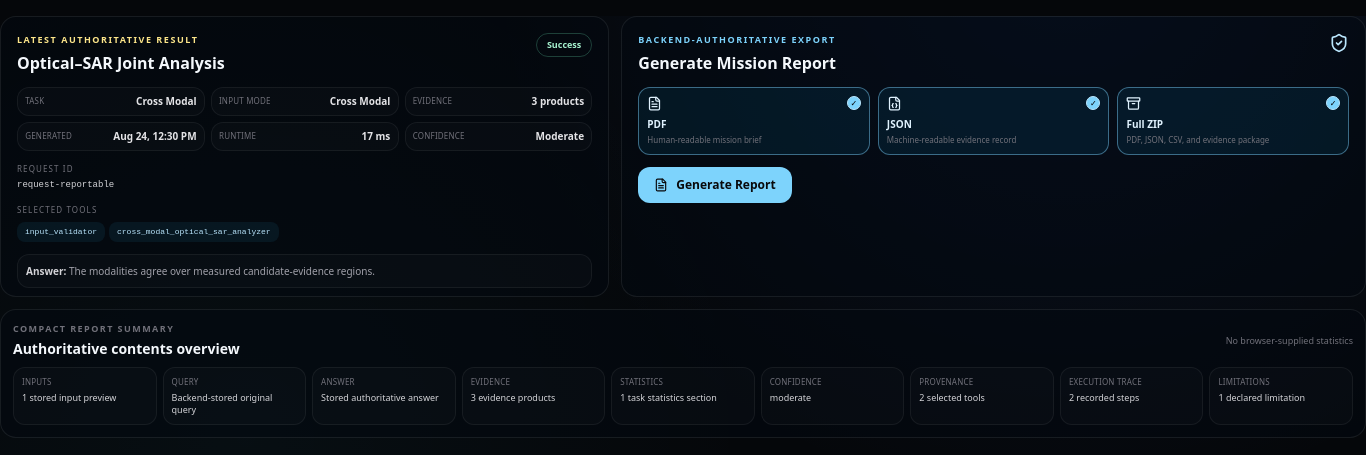
Test case: PresentationReportScene › renders real generated artifact links, status, runtime, sizes, and report warnings
Click the button "Generate Report". click: coordinates (715, 184)
box: top-left (638, 166), bottom-right (792, 202)
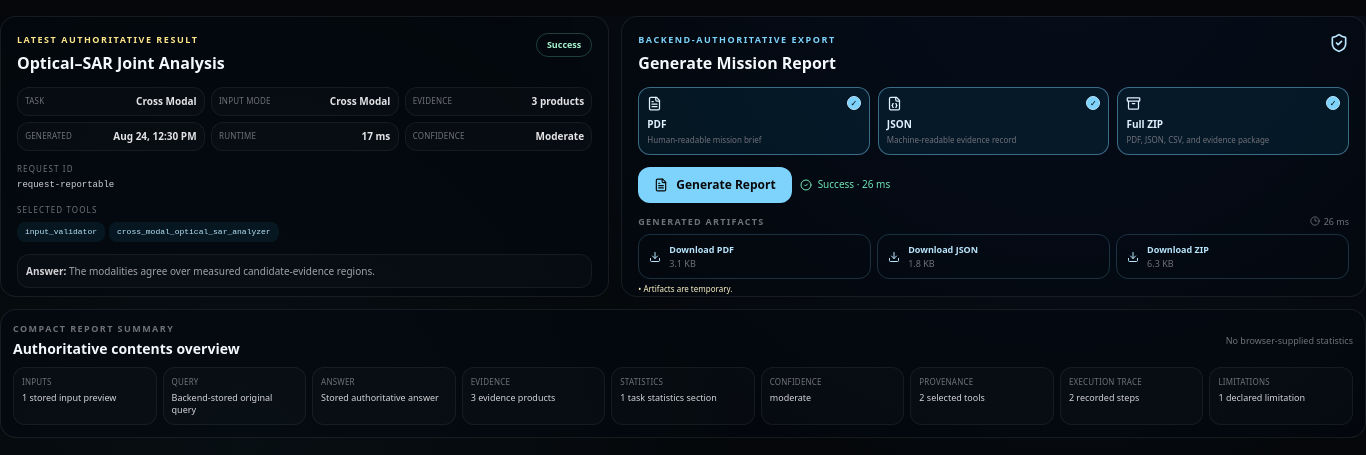
Expected: the text "Success · 26 ms" is shown, top-left (800, 177), bottom-right (890, 192)
Expected: the text "Artifacts are temporary" is shown, top-left (643, 283), bottom-right (732, 294)
Expected: the link "Download PDF 3.1 KB" is shown, top-left (638, 234), bottom-right (871, 279)
